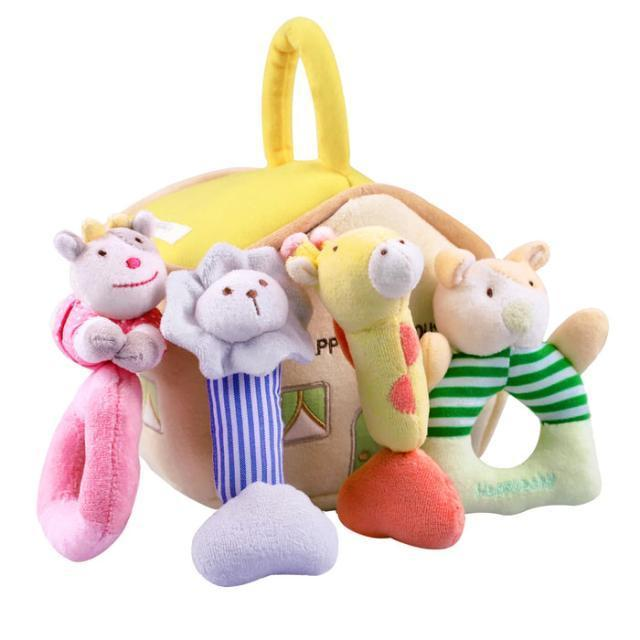soft-toy: (161, 244, 338, 586), (280, 226, 464, 548), (424, 242, 608, 513)
